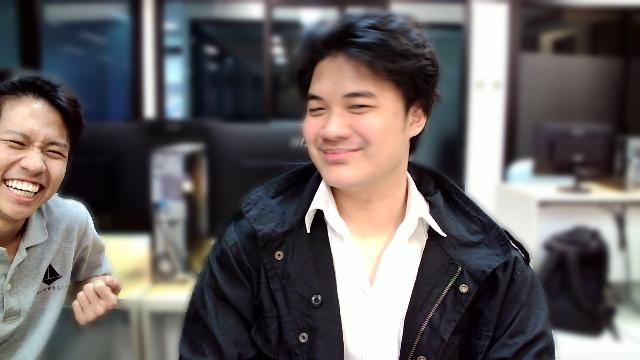fokus: (305, 36, 423, 188)
